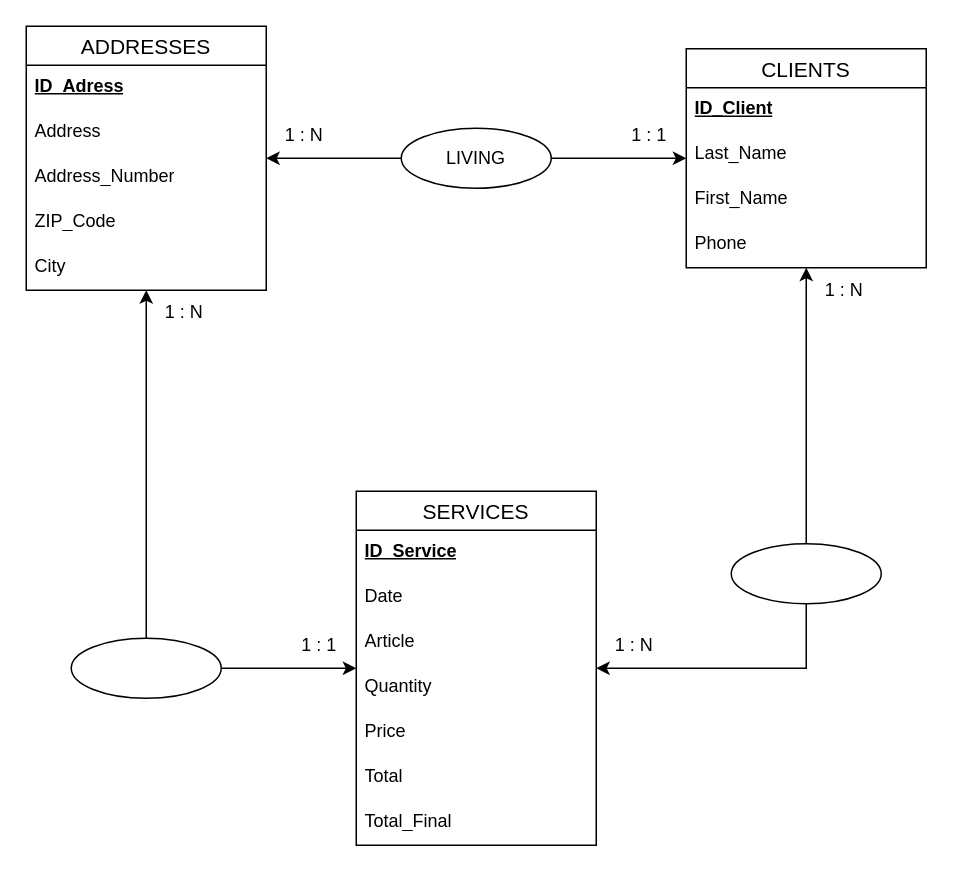
Image size: 953x876. Some labels were removed from this diagram. The shapes that lost their labels are listed below. From the top down, each one's centre as x and y in pixels, then its label:
At point 805,573: "COMMANDING".
At point 145,667: "DELIVER".
